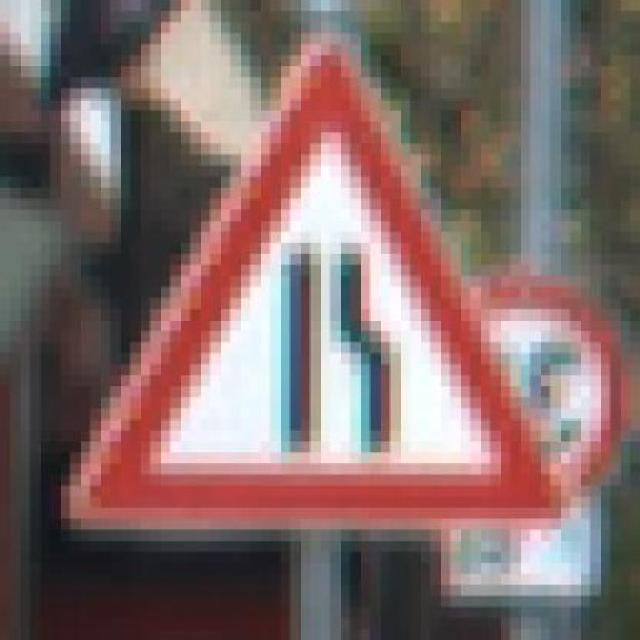-Road narrows on right: (60, 33, 560, 541)
